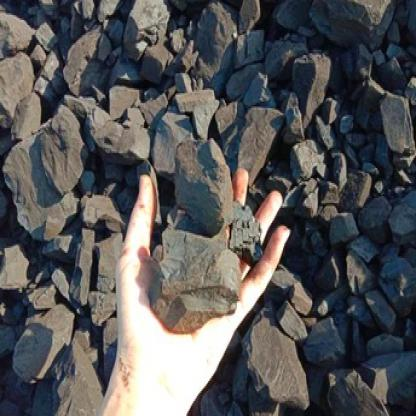Sedimentary_coal: (148, 223, 245, 331), (168, 133, 236, 241)
